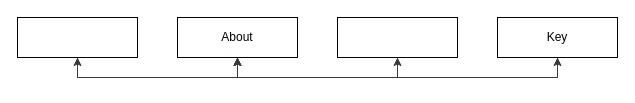
Image size: 635x103. Some labels were removed from this diagram. The centre of each missing label's shape, as x and y in pixels:
Application: (397,37)
Home: (77,37)
